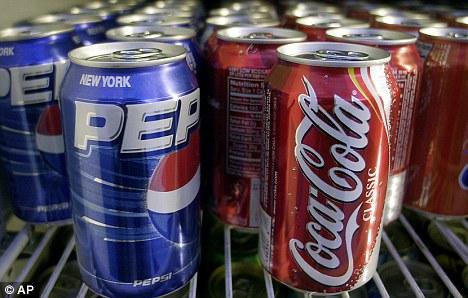can: (60, 37, 205, 292), (268, 43, 382, 298), (1, 31, 70, 231), (209, 29, 273, 235), (417, 24, 468, 209)
